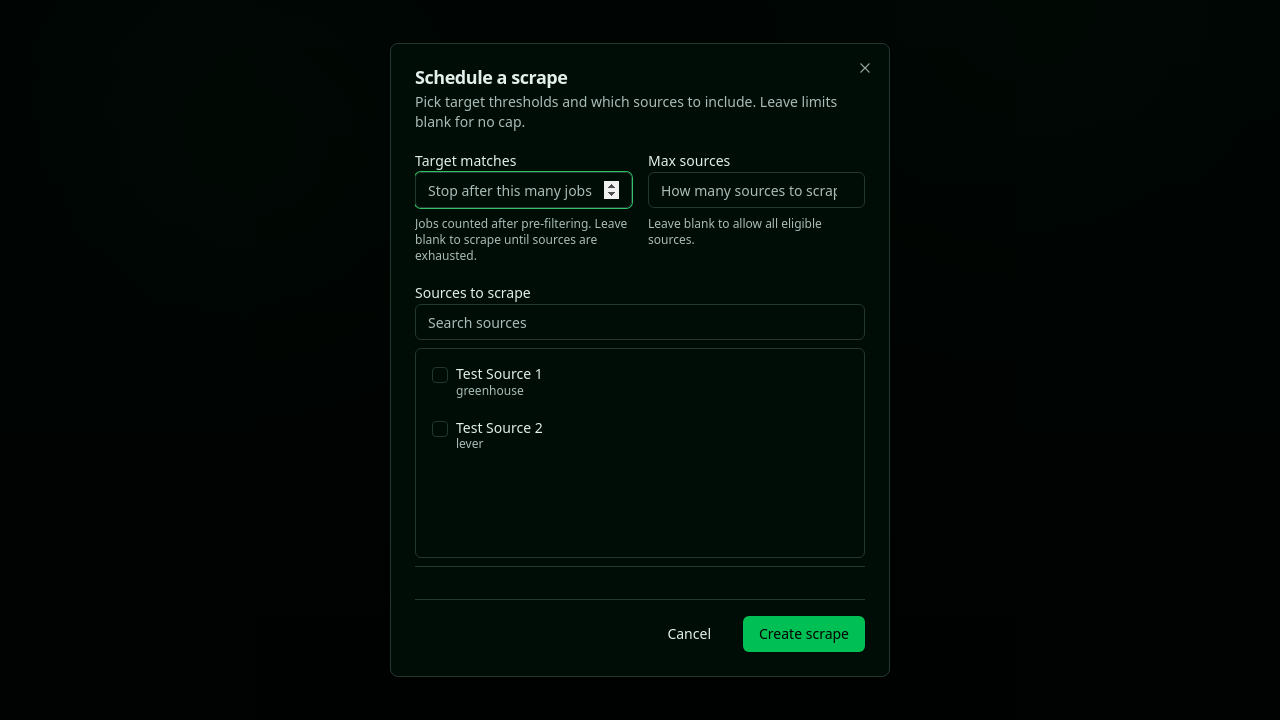
it: ScrapeJobDialog › clears error when dialog reopens
// Trigger error
Step 1. Click the button "Create scrape" → (804, 634), box x1=743 y1=616 x2=865 y2=652
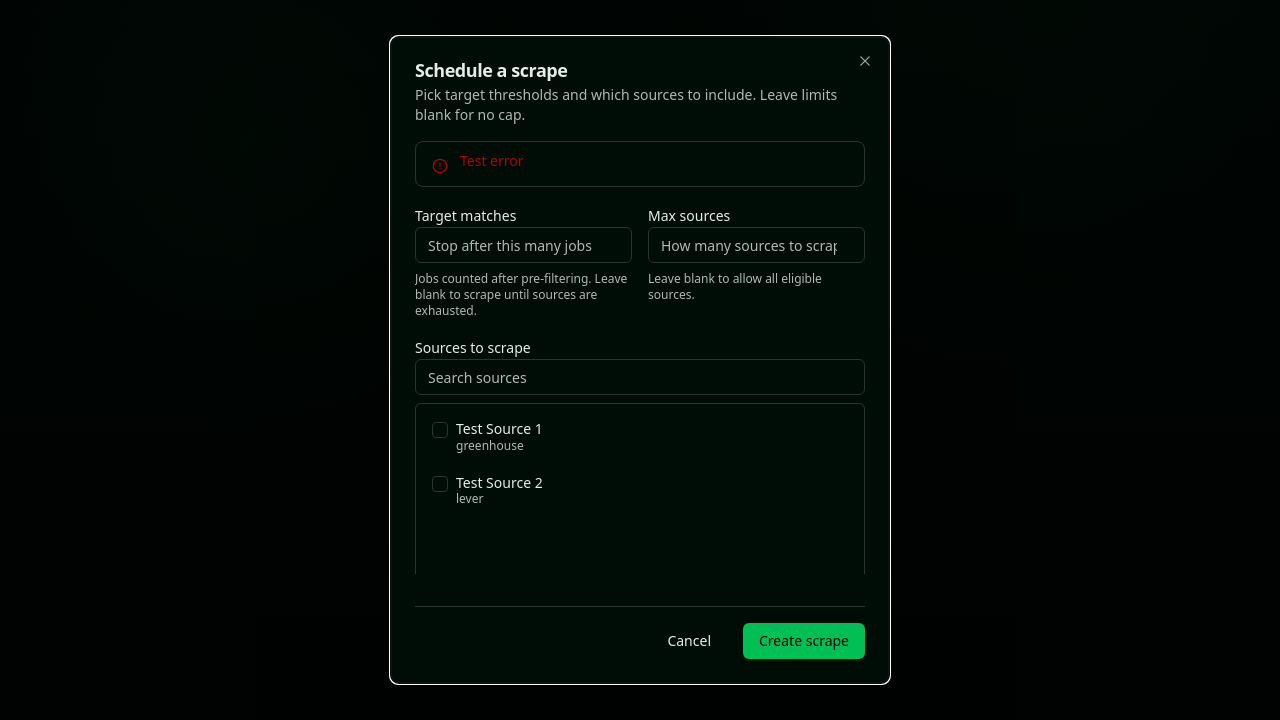
Expected: the text "Test error" is shown, x1=460 y1=151 x2=524 y2=170
